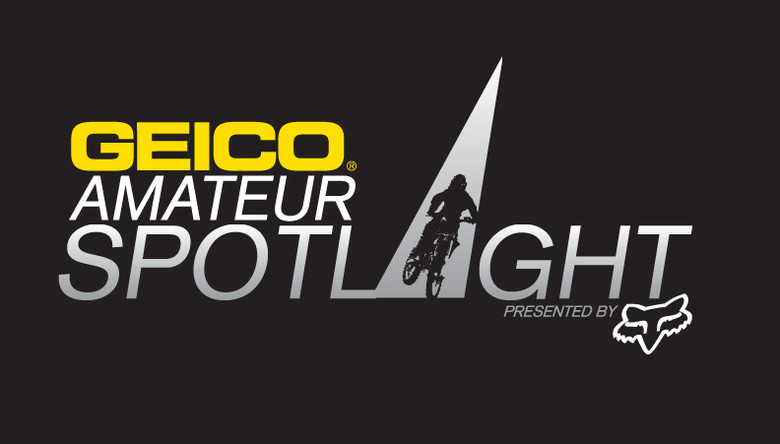geico: (68, 120, 362, 175)
